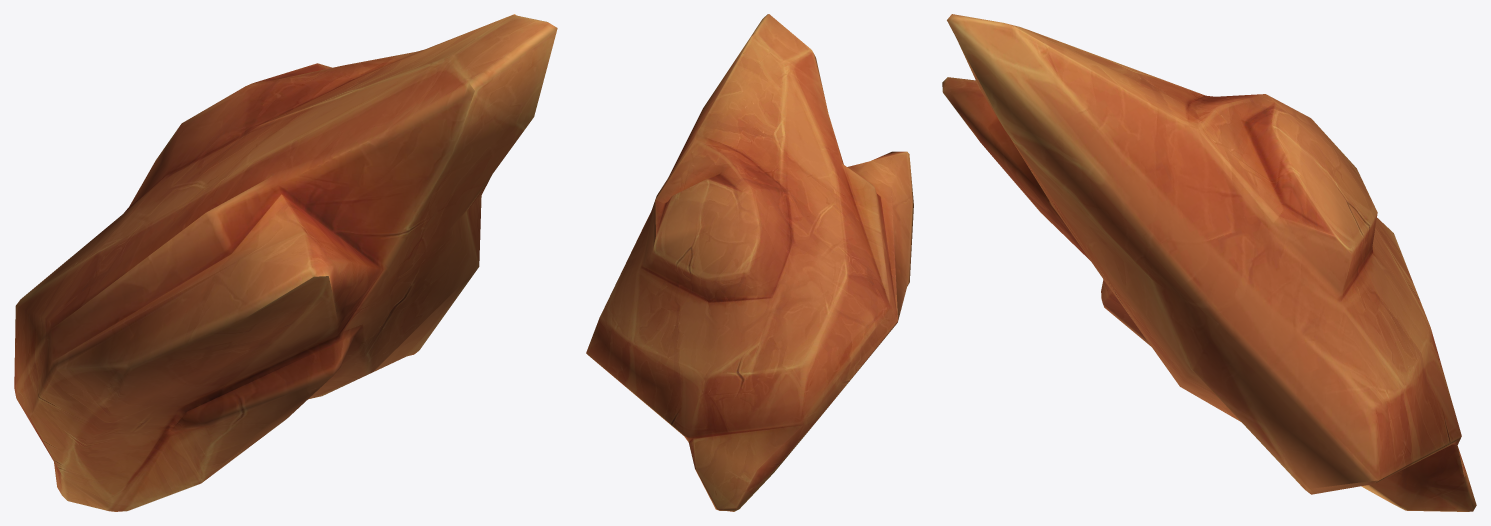
Rendered from DE_Rock_15.fbx.
3 views of the same model, side by side, from view 1: azimuth 30°, elevation 25°; view 2: azimuth 150°, elevation 25°; view 3: azimuth 270°, elevation 25° (orthographic). The views are drawn at different scales.
Visible parts, largest first — view 1: DE_Rock_15; view 2: DE_Rock_15; view 3: DE_Rock_15.
Part boxes in pixels (<box>): DE_Rock_15: <box>14,14,557,511</box>; DE_Rock_15: <box>586,14,913,511</box>; DE_Rock_15: <box>942,14,1476,511</box>.
Bounding box in the file's own units: 7.55 × 9.89 × 8.18.
